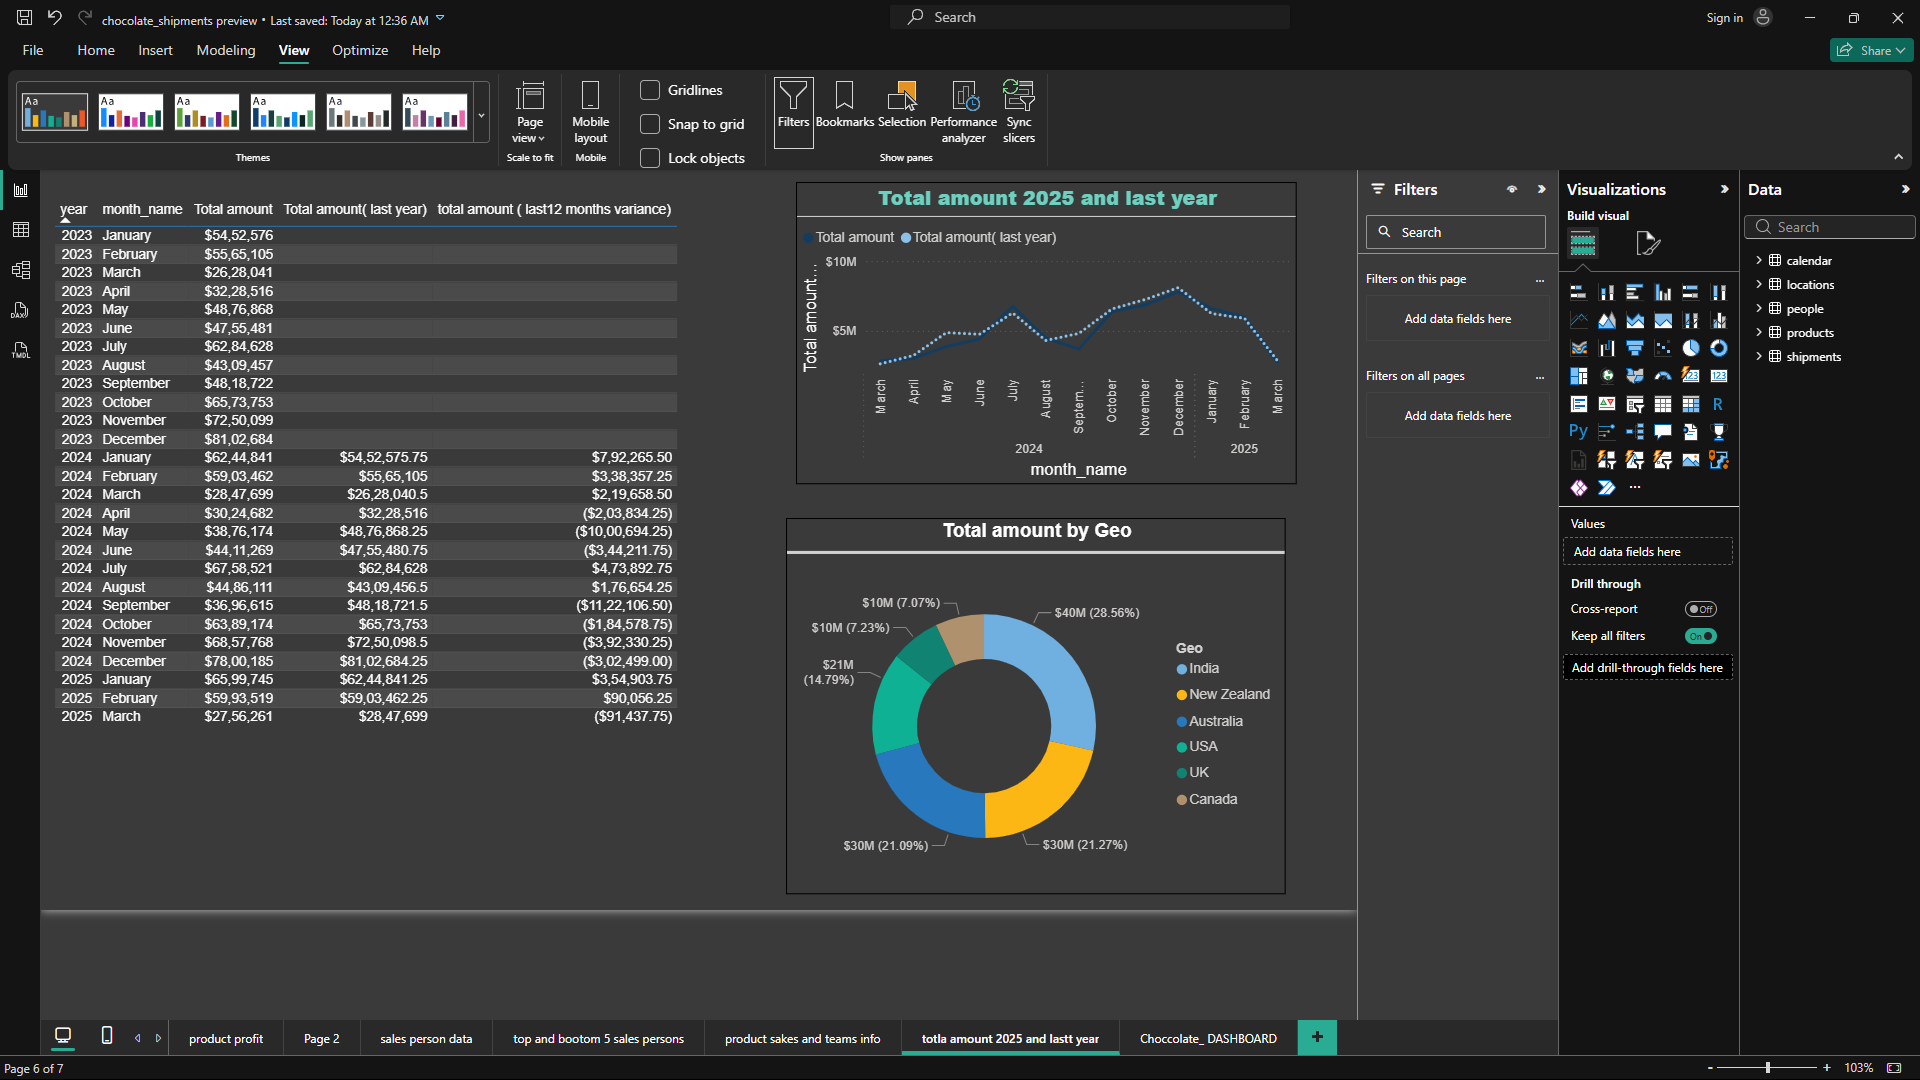

Layout of this report page (visuals, bound fields, positions):
{"tool":"powerbi","page":{"name":"Page 6","canvas":[1280,720],"ordinal":5},"visuals":[{"type":"tableEx","fields":{"Values":["calendar.year","calendar.month_name","shipments.Total amount","shipments.Total amount( last year)","shipments.total amount ( last12 months variance)"]},"box":[0,58.4,640,628.3],"z":0},{"type":"lineChart","fields":{"Category":["calendar.year","calendar.month_name"],"Y":["shipments.Total amount","shipments.Total amount( last year)"]},"box":[731.4,36,487.3,293.7],"z":1000},{"type":"donutChart","fields":{"Category":["locations.Geo"],"Y":["shipments.Total amount"]},"box":[716.8,329.7,486.3,356],"z":2000}]}

Visuals, with their boxes on the page's 1280x720 design canvas (x1, y1, x2, y2). These are canvas units, not pixel positions in the 1920x1080 screenshot, which may show the page scaled, cropped or inside an application window:
tableEx - calendar.year x calendar.month_name: left=0, top=58, right=640, bottom=687
lineChart - calendar.year x calendar.month_name: left=731, top=36, right=1219, bottom=330
donutChart - locations.Geo x shipments.Total amount: left=717, top=330, right=1203, bottom=686
